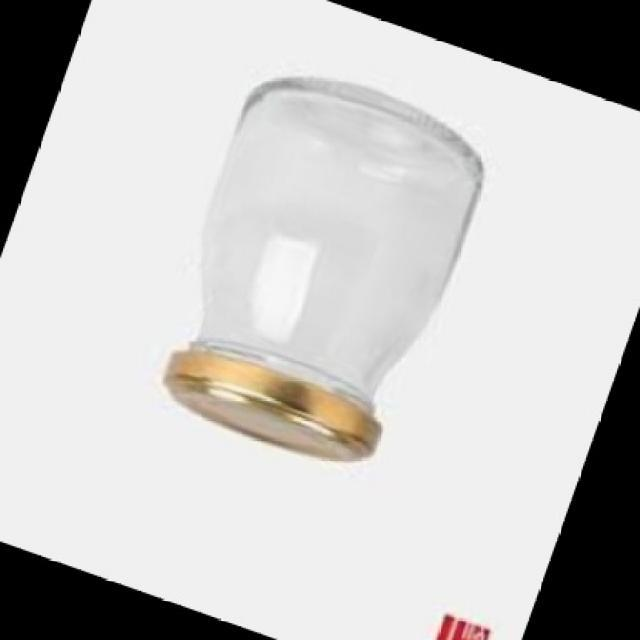Glass: (162, 76, 484, 464)
